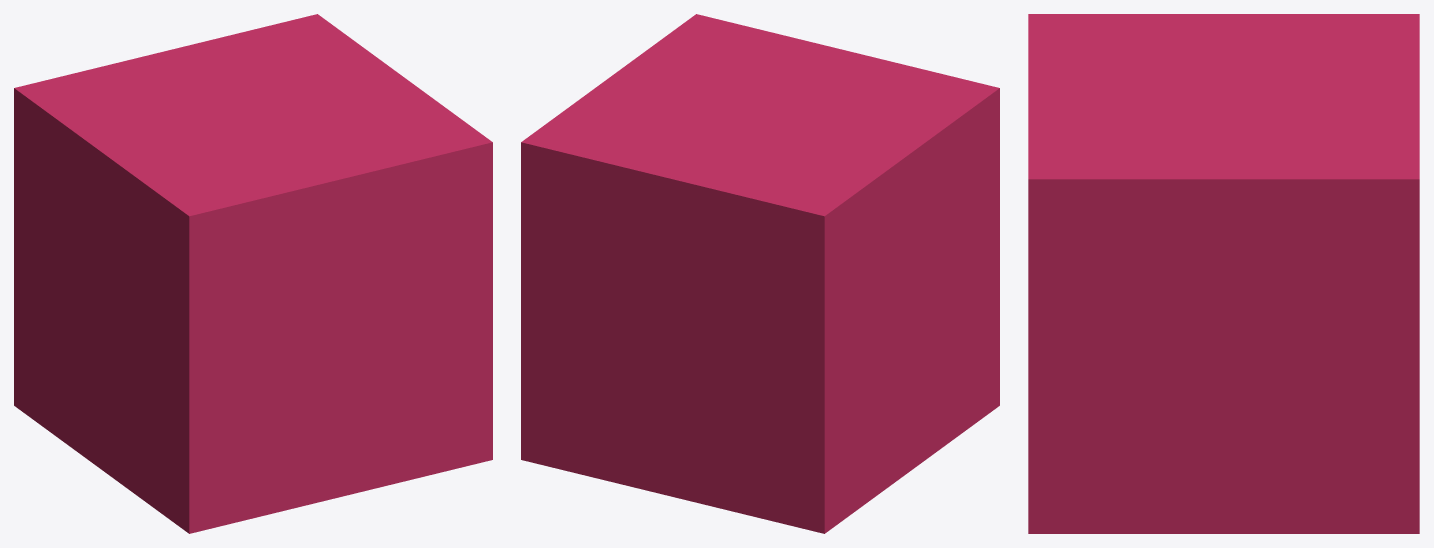
The picture shows the model from 3 angles, left to right: view 1: azimuth 30°, elevation 25°; view 2: azimuth 150°, elevation 25°; view 3: azimuth 270°, elevation 25°; orthographic projection. The views are drawn at different scales.
Parts seen in each view (by area): view 1: Cube; view 2: Cube; view 3: Cube.
Boxes of the visible parts, <box> form: Cube: <box>14,14,492,533</box>; Cube: <box>521,14,999,533</box>; Cube: <box>1028,14,1419,533</box>.
Bounding box in the file's own units: 200 × 200 × 200.
